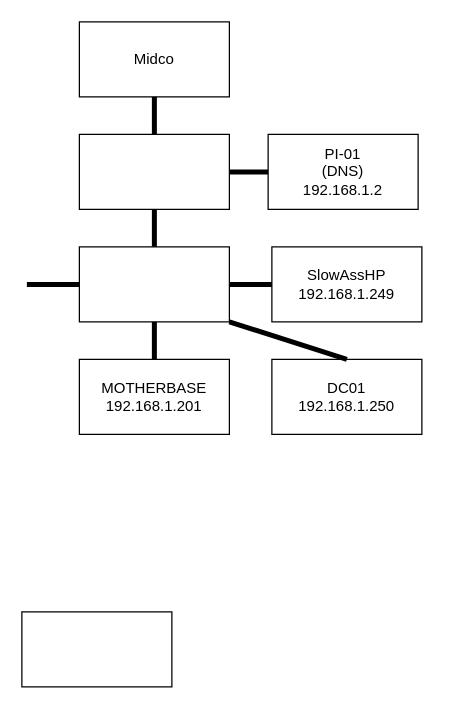
Some shapes in this 464 by 709 pixel diagram are drawn without their labels. Here are the shapes that lost their labels. From the top down, the centre of each, then its label:
At [153,171]: "Router (DHCP, Def. Gateway) 192.168.1.1".
At [153,284]: "SG300 Switch".
At [96,649]: "HYPERV01 192.168.1.117".
